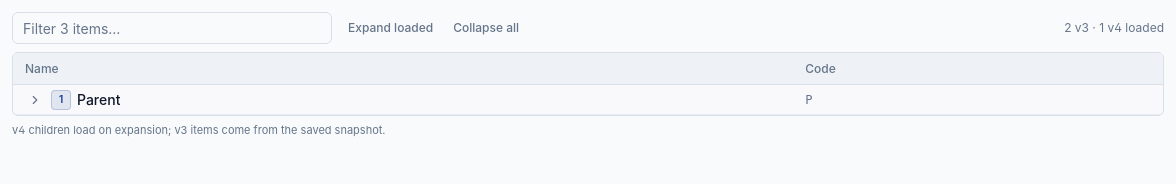
Scenario: ListItemsTree › loads a v4 level once, on first expand, and merges it under the v3 parent
Expected: the text "Parent" is shown, [77,90,120,110]
Click the button named "Expand" at [35, 100], box [25,90,45,110]
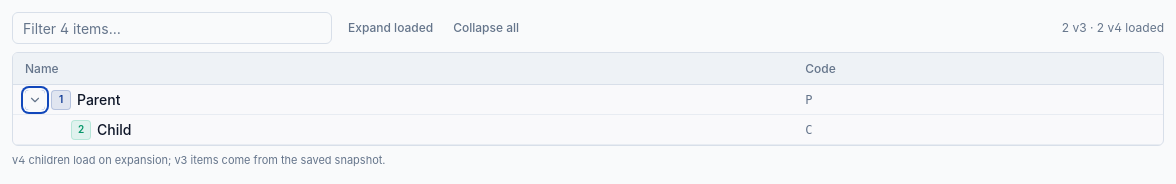
Expected: the text "Child" is shown, [97,120,131,140]
Expected: the text "C" is shown once, [805,122,812,138]
Note: Collapsing and reopening reuses what is already in memory.
Click the button named "Collapse" at [35, 100], box [25,90,45,110]
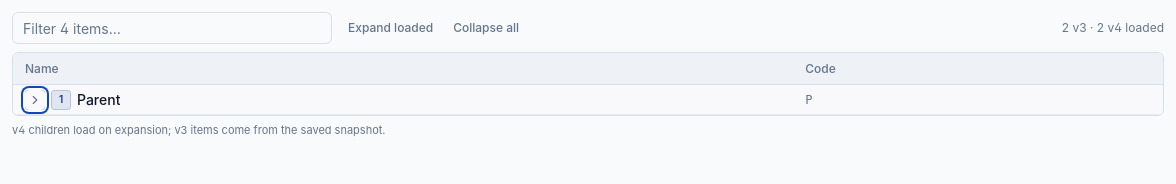
Click the button named "Expand" at [35, 100], box [25,90,45,110]
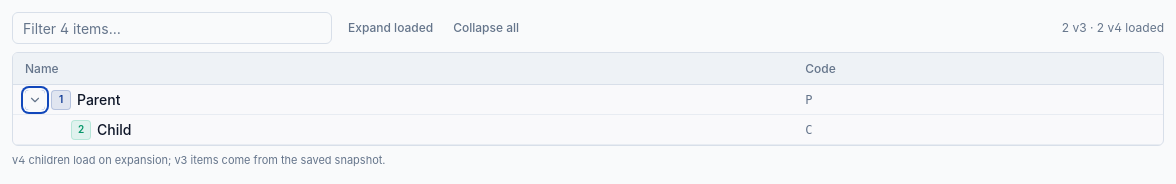
Expected: the text "Child" is shown, [97,120,131,140]
